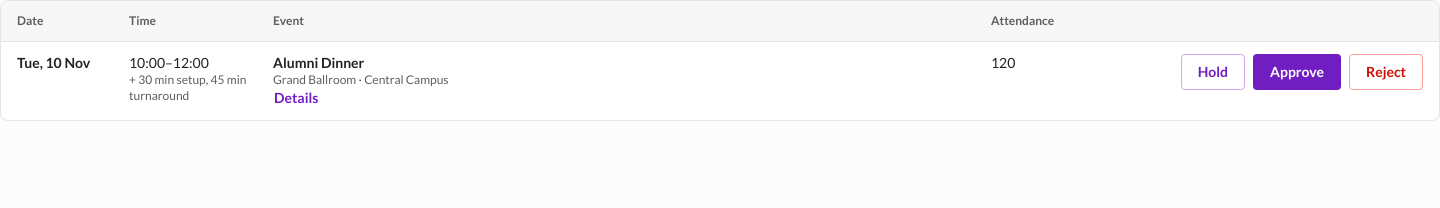
Scenario: VenueRequestRows › opens the layout and facility details on request
This screenshot has width=1440, height=208.
Expected: the text "Banquet" is not shown
What coordinates should you click on to do the following:
click the button "Details"
I would click on:
 (296, 98)
Its box is [273, 88, 319, 108].
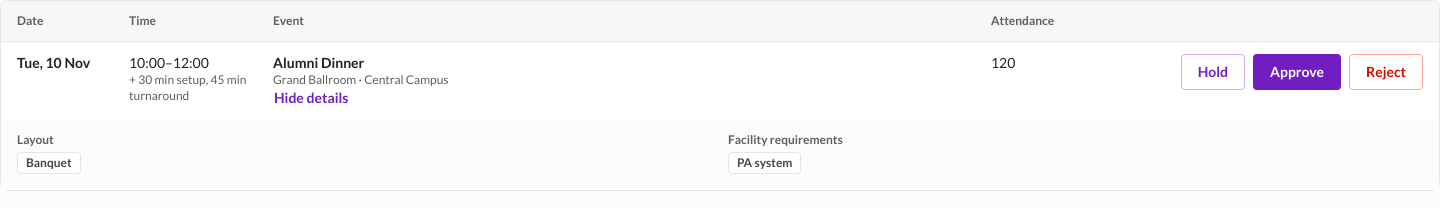
Expected: the text "Banquet" is shown, [17, 152, 81, 174]
Expected: the text "PA system" is shown, [728, 152, 802, 174]
